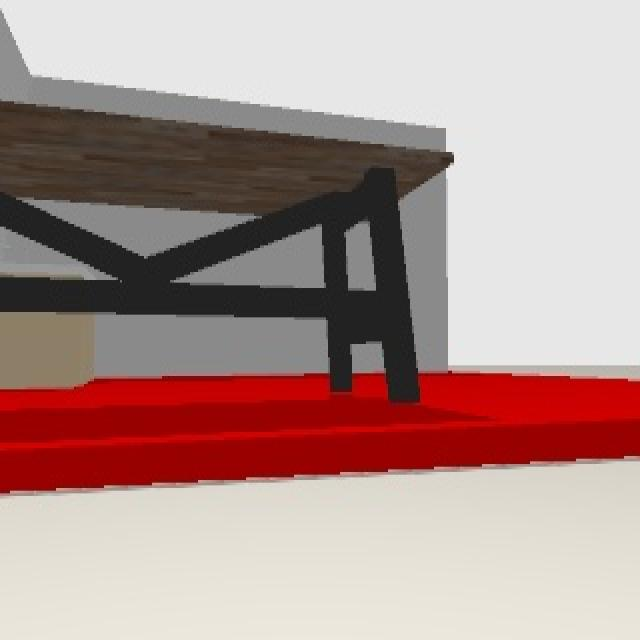dining: (0, 100, 453, 403)
